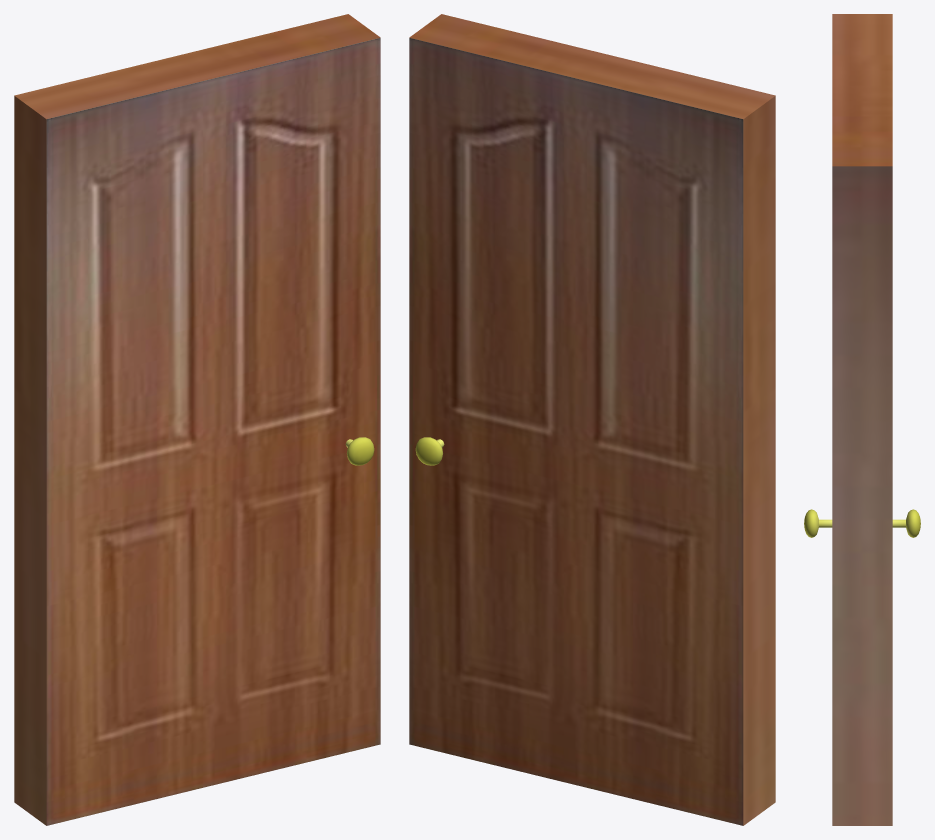
The model's file is Door.FBX.
The picture shows the model from 3 angles, left to right: view 1: azimuth 30°, elevation 25°; view 2: azimuth 150°, elevation 25°; view 3: azimuth 270°, elevation 25°; orthographic projection. The views are drawn at different scales.
Visible parts, largest first — view 1: Door; view 2: Door; view 3: Door.
Boxes of the visible parts, <box> form: Door: <box>14,14,380,825</box>; Door: <box>409,14,775,825</box>; Door: <box>804,14,920,825</box>.
Bounding box in the file's own units: 69.93 × 141 × 22.68.
